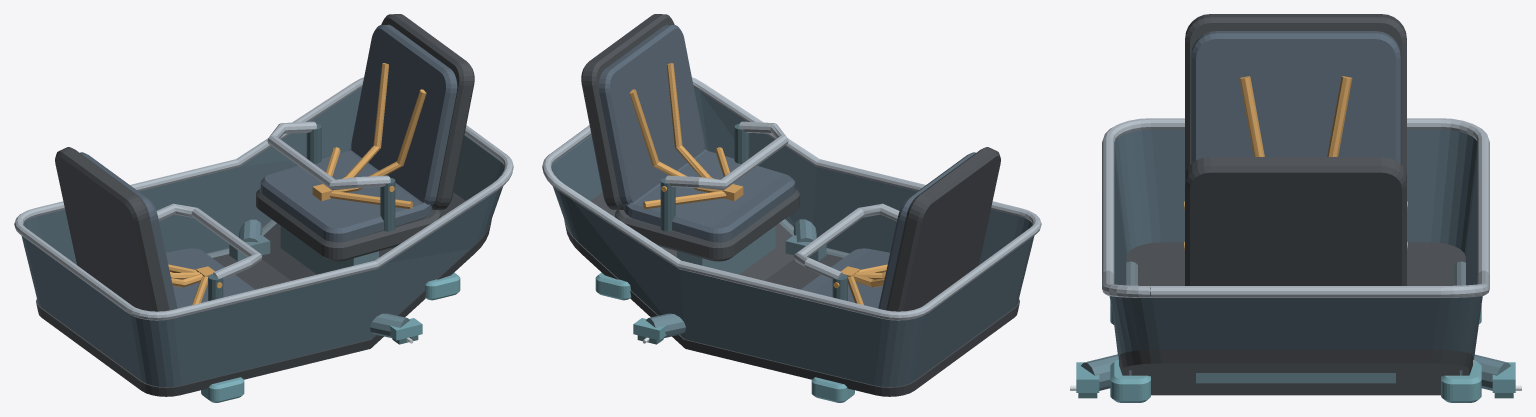
3 views of the same model, side by side, from view 1: azimuth 30°, elevation 25°; view 2: azimuth 150°, elevation 25°; view 3: azimuth 270°, elevation 25° (orthographic). The views are drawn at different scales.
Visible parts, largest first — view 1: S11_Cabin, S11_Cabin_Mount_M; view 2: S11_Cabin, S11_Cabin_Mount_M; view 3: S11_Cabin, S11_Cabin_Mount_M.
Part boxes in pixels (x1=…): S11_Cabin: x1=14, y1=14, x2=513, y2=402; S11_Cabin_Mount_M: x1=229, y1=219, x2=422, y2=344; S11_Cabin: x1=542, y1=14, x2=1041, y2=402; S11_Cabin_Mount_M: x1=633, y1=219, x2=826, y2=344; S11_Cabin: x1=1102, y1=14, x2=1489, y2=402; S11_Cabin_Mount_M: x1=1070, y1=354, x2=1521, y2=398.
Size of the model in its own units: 0.88 by 0.545 by 0.664.
